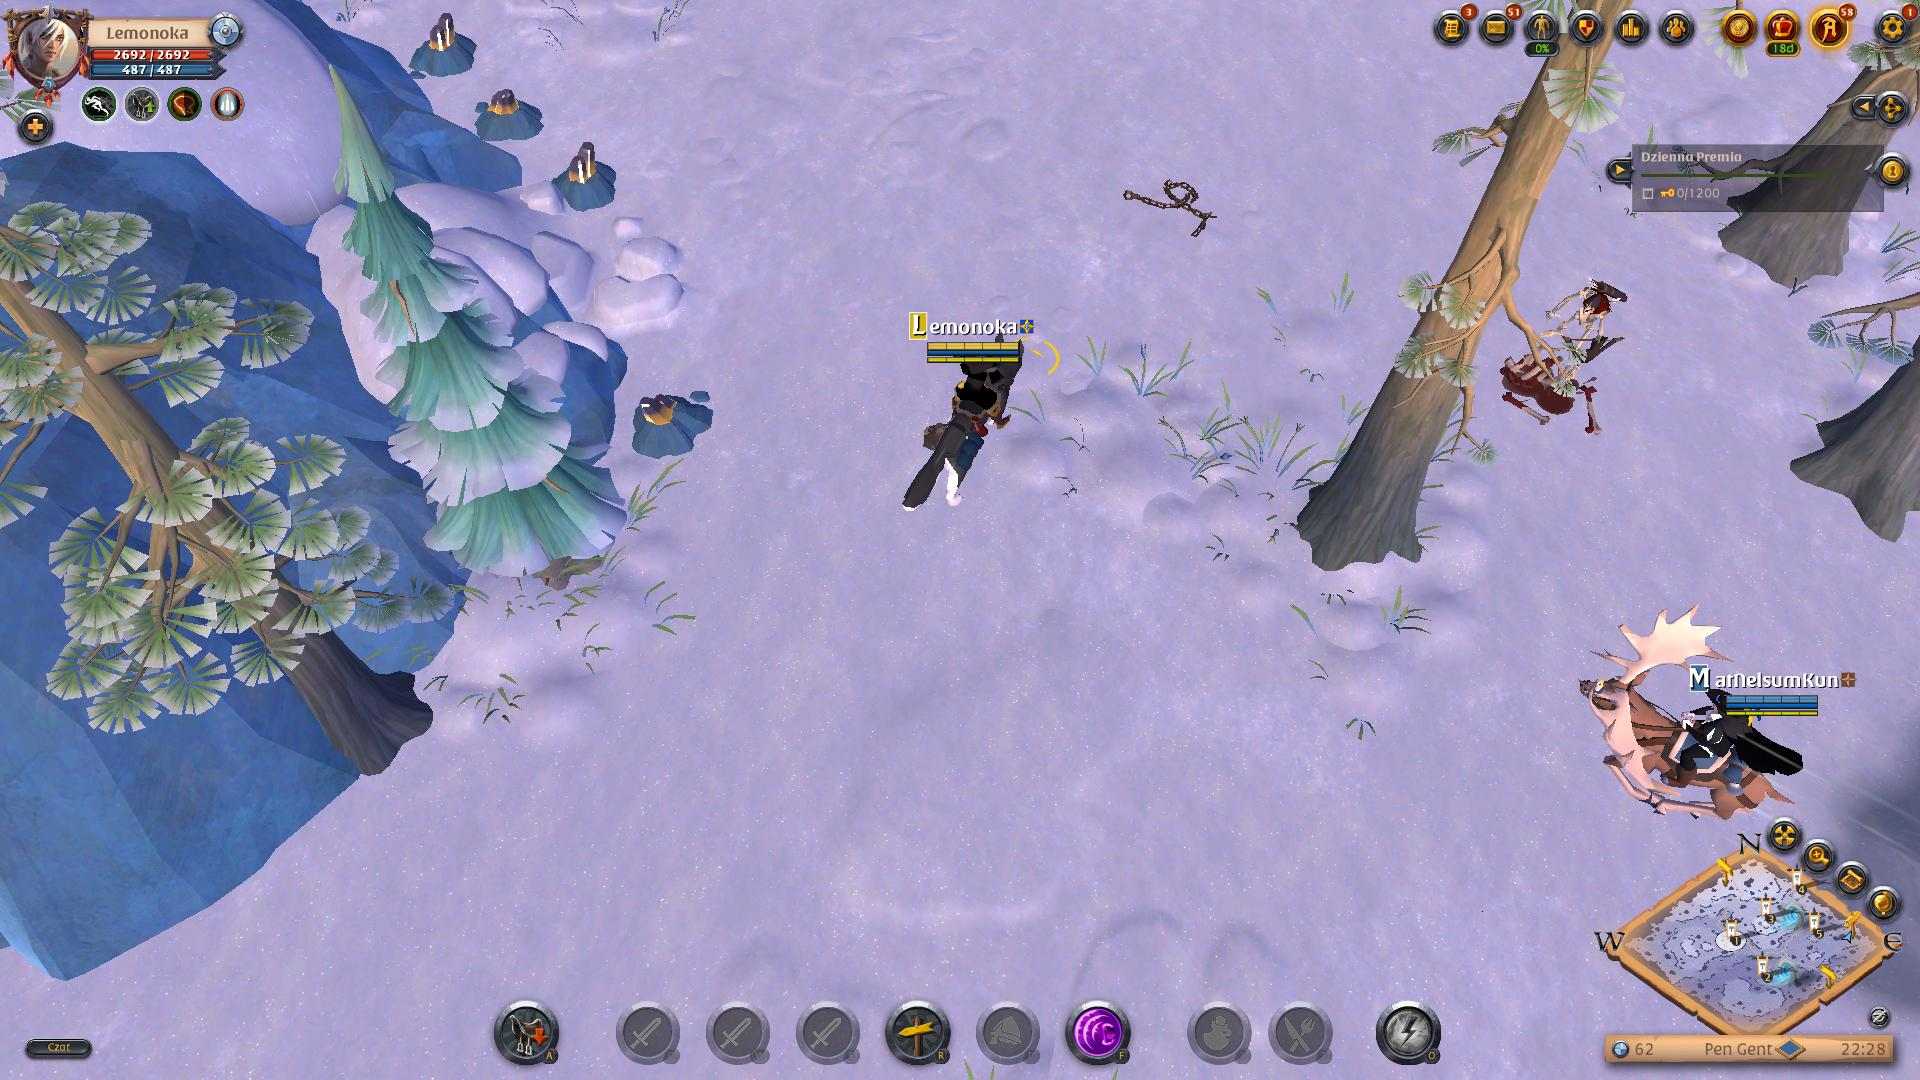ore tier 2: (630, 386, 719, 462), (413, 12, 480, 83), (554, 141, 620, 214), (468, 87, 549, 145)
